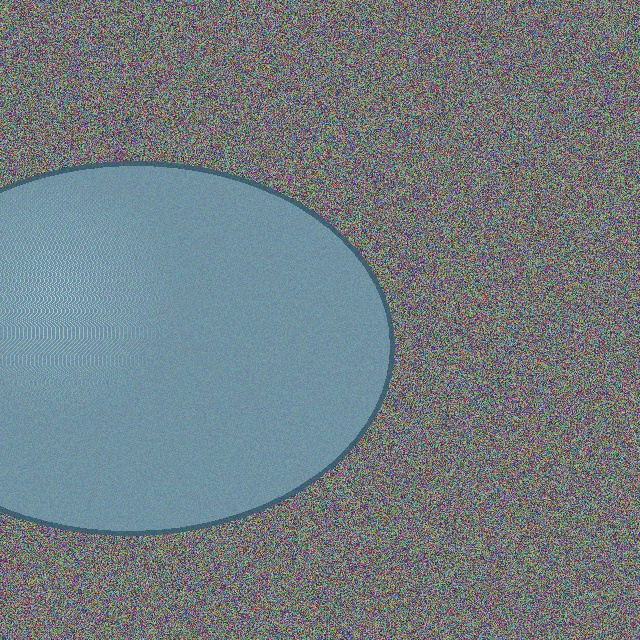lens: (0, 163, 392, 533)
